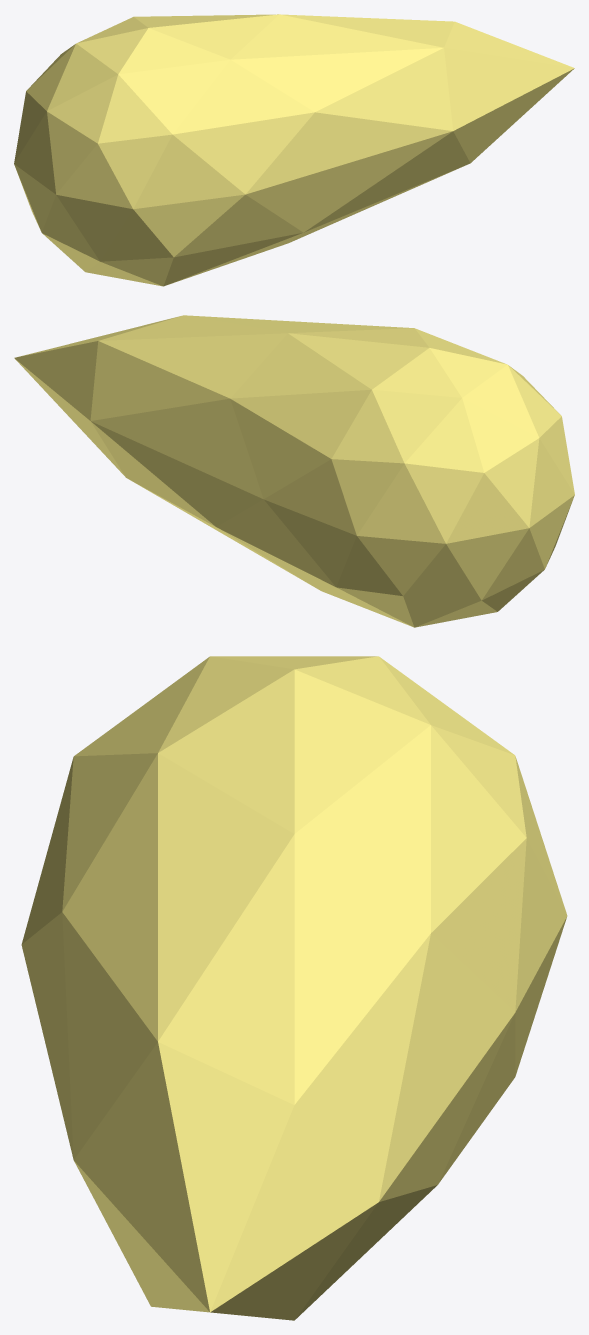
File: Projectile.fbx
The picture shows the model from 3 angles, top to bottom: view 1: azimuth 30°, elevation 25°; view 2: azimuth 150°, elevation 25°; view 3: azimuth 270°, elevation 25°; orthographic projection. The views are drawn at different scales.
Parts seen in each view (by area): view 1: Projectile; view 2: Projectile; view 3: Projectile.
Part boxes in pixels (bbox=[...]): Projectile: bbox=[14, 14, 574, 286]; Projectile: bbox=[14, 315, 574, 627]; Projectile: bbox=[21, 656, 567, 1320].
Size of the model in its own units: 439 by 200 by 200.
